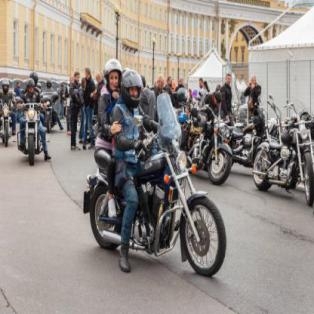Motocicleta: (87, 122, 228, 280), (256, 111, 314, 200), (194, 102, 242, 176), (16, 99, 51, 161)
